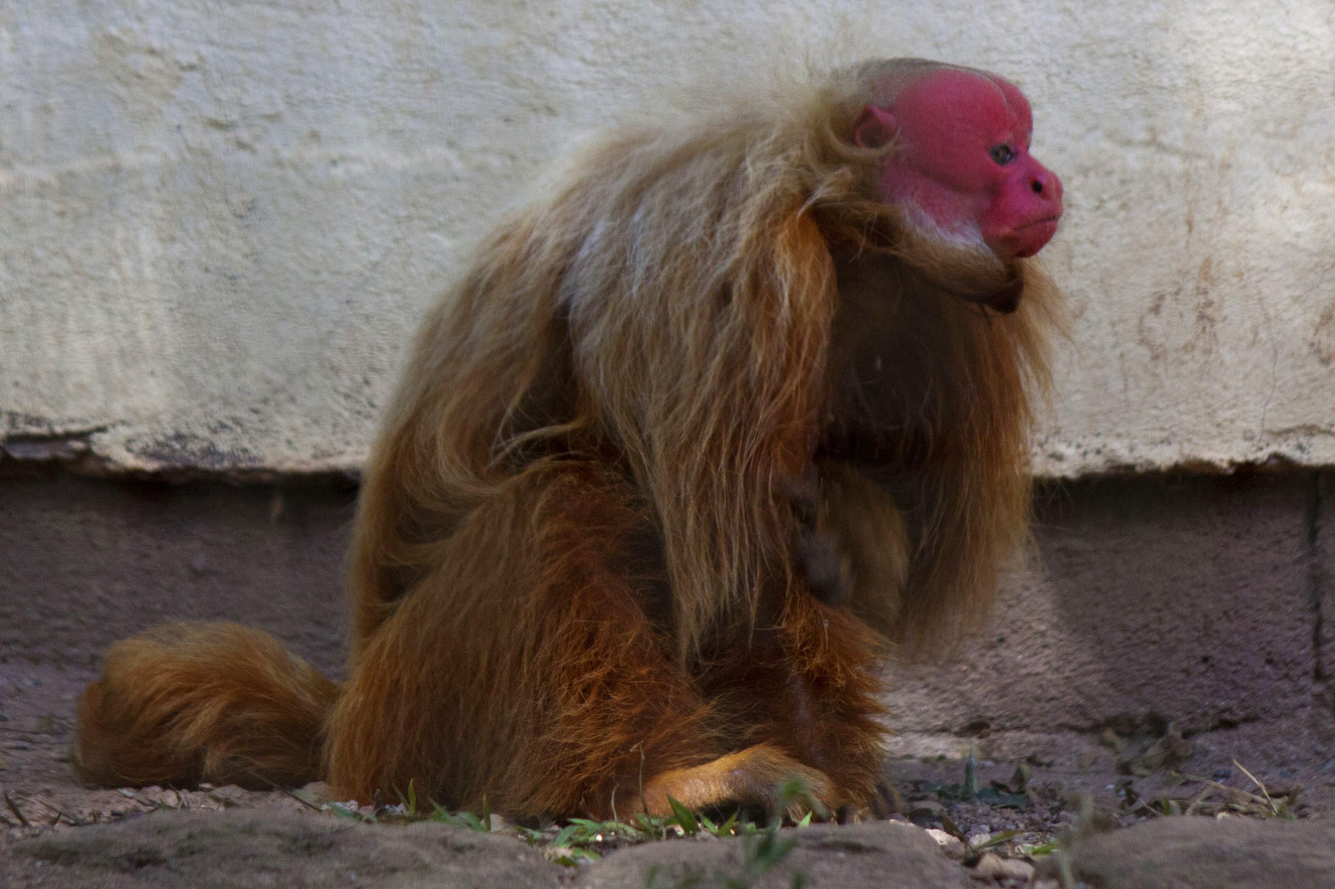monkey: (79, 60, 1062, 818)
